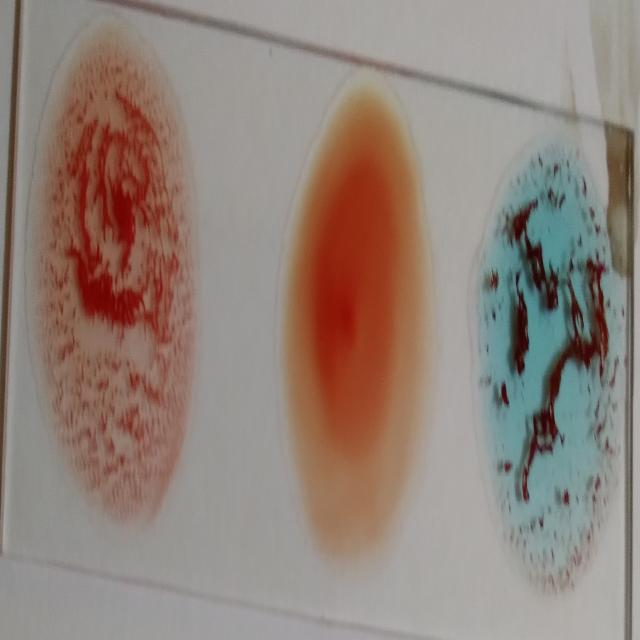A: (481, 128, 614, 590)
D: (37, 26, 193, 512)
